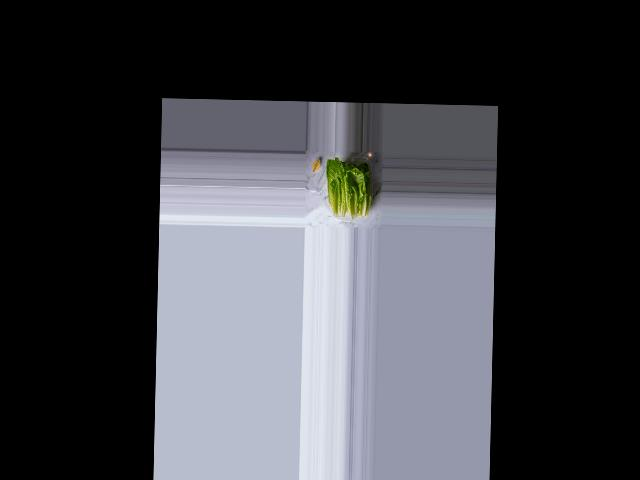lettuce: (322, 156, 374, 219)
